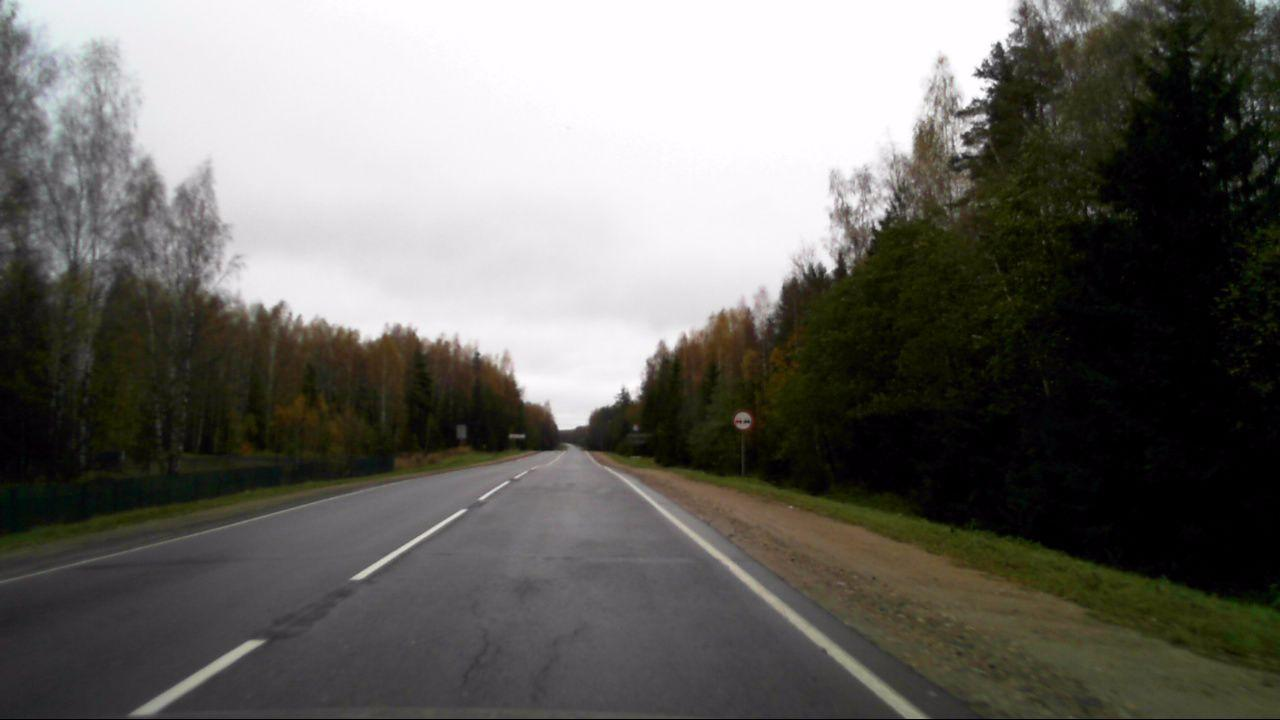road_sign: (732, 409, 754, 431)
